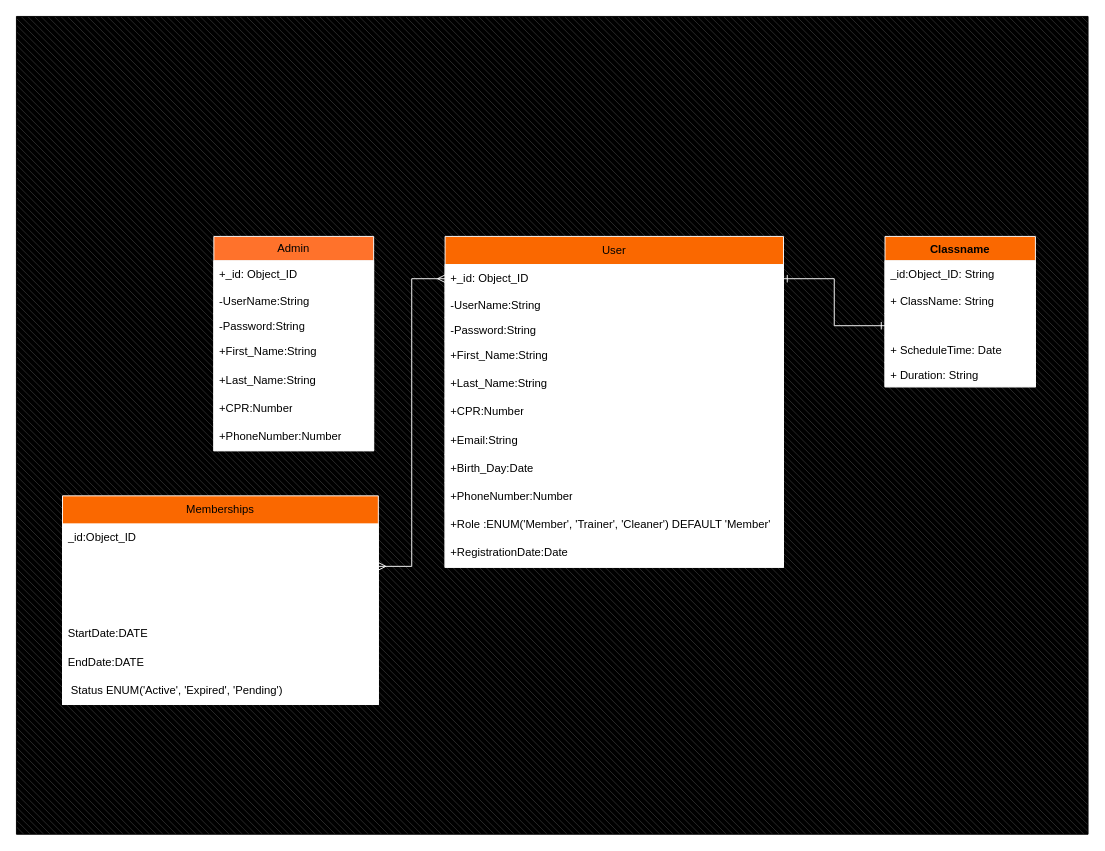
Some shapes in this 1105 by 851 pixel diagram are drawn without their labels. Each missing label, with the centre of its shape:
+ TrainerID: String: pixel 959 325
PlanType ENUM( '1 Month' ,'3 month', 'Yearly' , '6 Month' ): pixel 220 600
UserID:Object_ID: pixel 220 565
